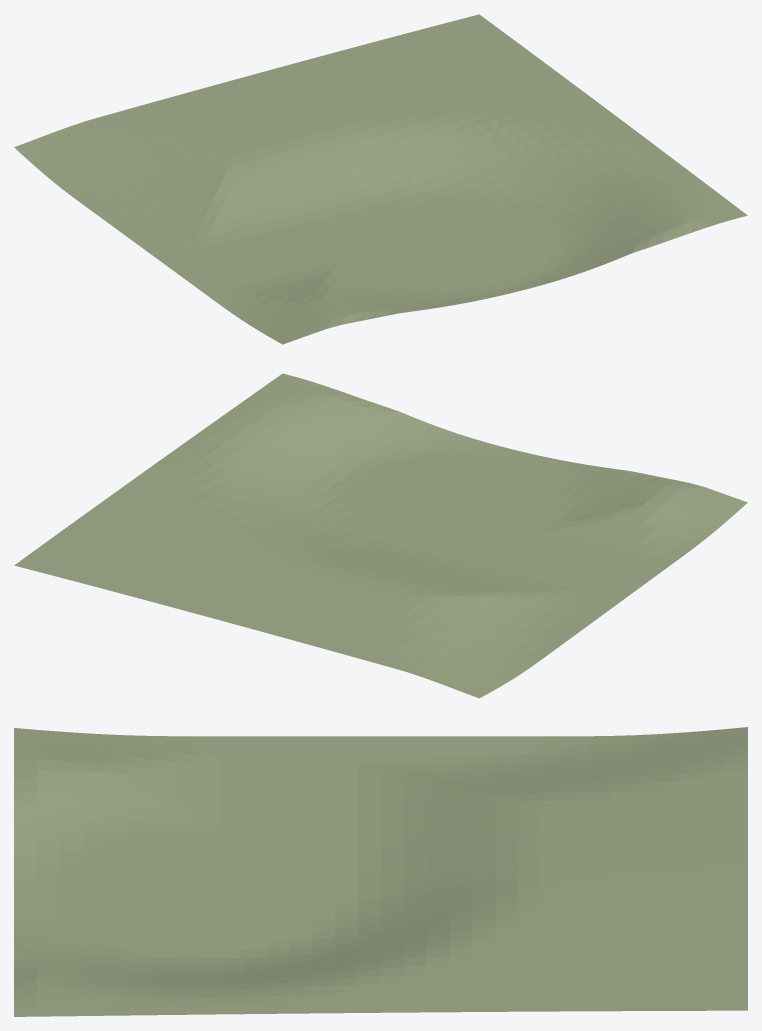
The model's file is gardens-3-6.glb.
The picture shows the model from 3 angles, top to bottom: view 1: azimuth 30°, elevation 25°; view 2: azimuth 150°, elevation 25°; view 3: azimuth 270°, elevation 25°; orthographic projection. The views are drawn at different scales.
Parts seen in each view (by area): view 1: gardens-3-6; view 2: gardens-3-6; view 3: gardens-3-6.
Boxes of the visible parts, x1,y1,x2,y2 form: gardens-3-6: [14, 14, 747, 344]; gardens-3-6: [14, 373, 747, 698]; gardens-3-6: [14, 727, 747, 1016].
Bounding box in the file's own units: 256 × 13.77 × 256.
